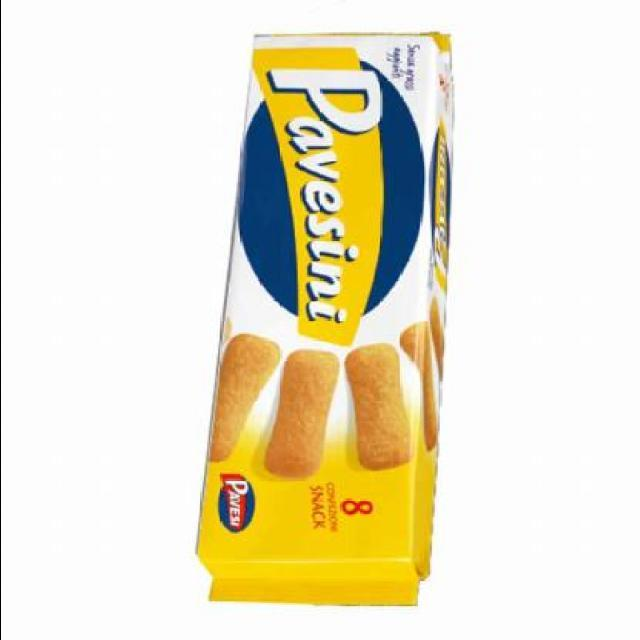Merendine: (190, 27, 459, 605)
